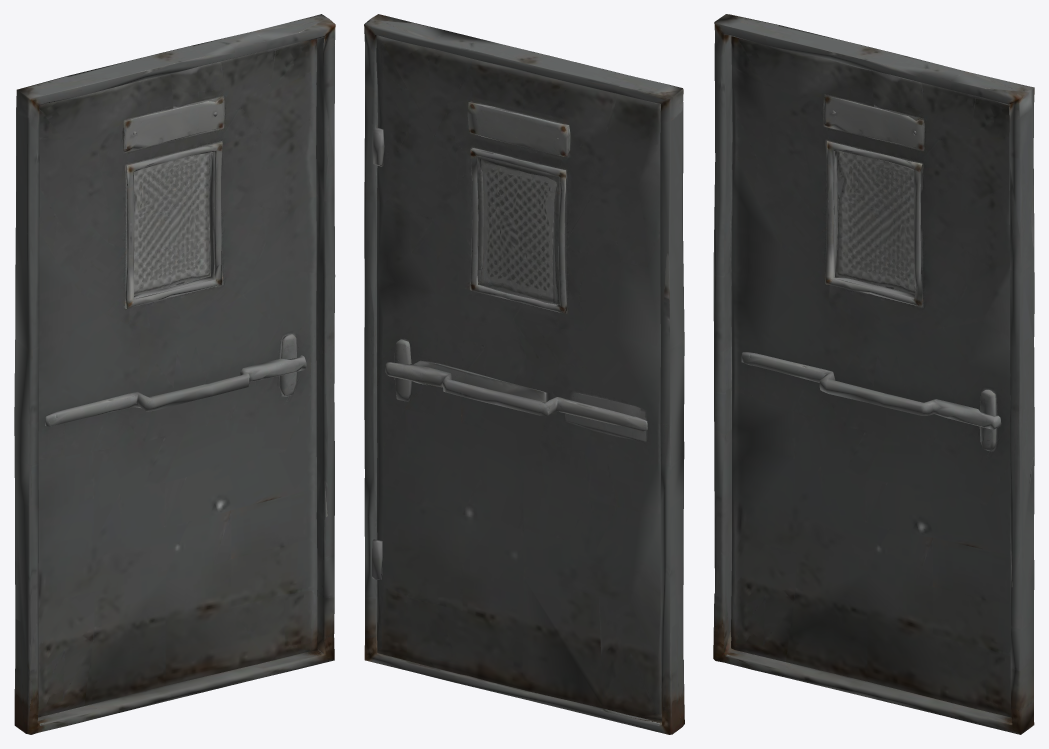
File: sec_door.glb
3 views of the same model, side by side, from view 1: azimuth 30°, elevation 25°; view 2: azimuth 150°, elevation 25°; view 3: azimuth 330°, elevation 25° (orthographic).
Size of the model in its own units: 0.5073 by 1 by 0.0981.
Materials: 1 (1 with a texture image).
